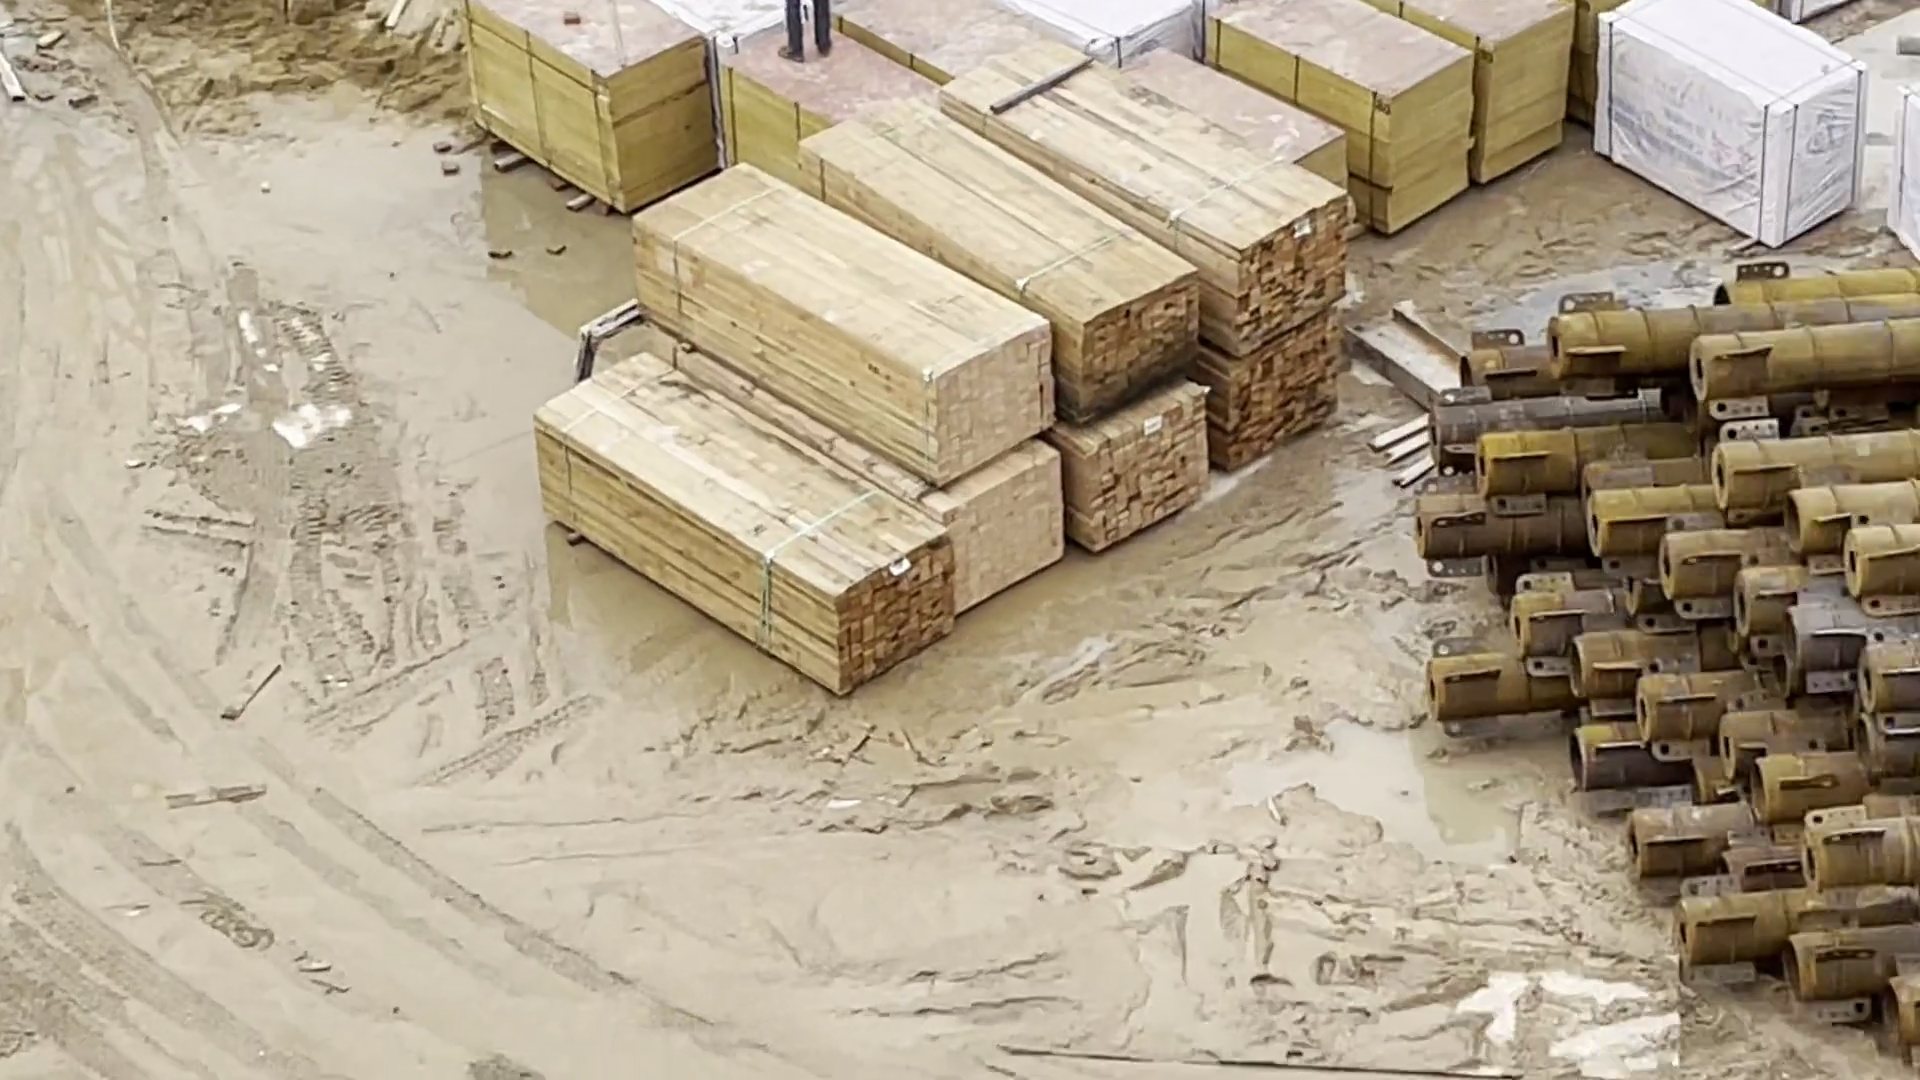board: (1215, 1, 1578, 235), (464, 1, 713, 208)
wood: (798, 32, 1337, 553), (638, 157, 1063, 625), (537, 348, 957, 699)
